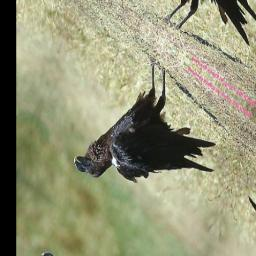Crow: (71, 31, 233, 253)
